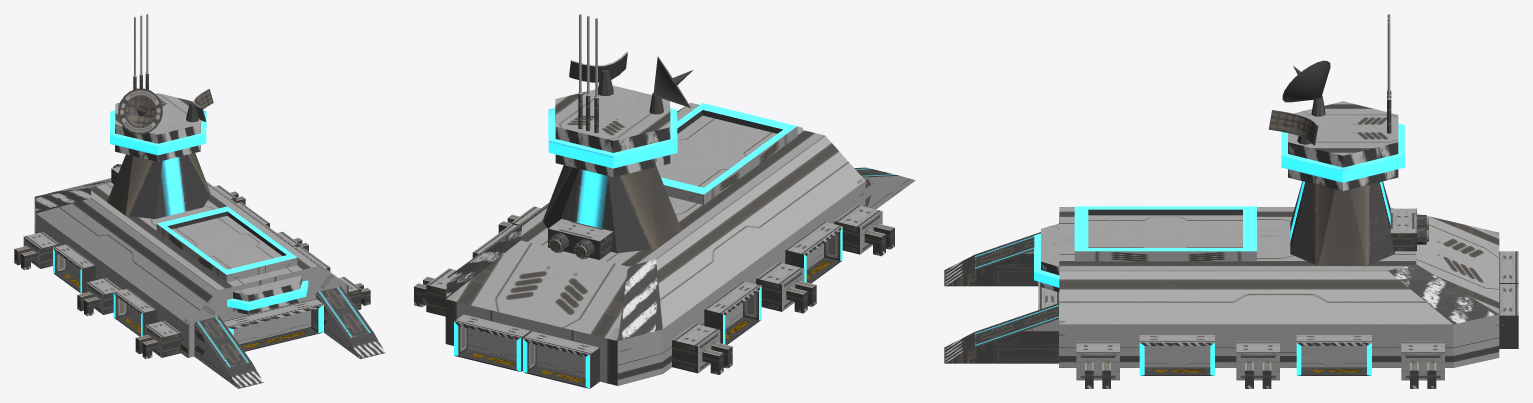
The model's file is training-center.glb.
3 renders of one model, left to right at view 1: azimuth 30°, elevation 25°; view 2: azimuth 150°, elevation 25°; view 3: azimuth 270°, elevation 25°, orthographic. The views are drawn at different scales.
Parts seen in each view (by area): view 1: Command_Center1; view 2: Command_Center1; view 3: Command_Center1.
Part boxes in pixels (x1=…): Command_Center1: x1=14, y1=14, x2=385, y2=388; Command_Center1: x1=414, y1=14, x2=915, y2=388; Command_Center1: x1=944, y1=14, x2=1518, y2=388.
Size of the model in its own units: 1159 by 1135 by 1974.
1 material, 1 textured.
